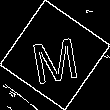M_N: (28, 26, 82, 84)
